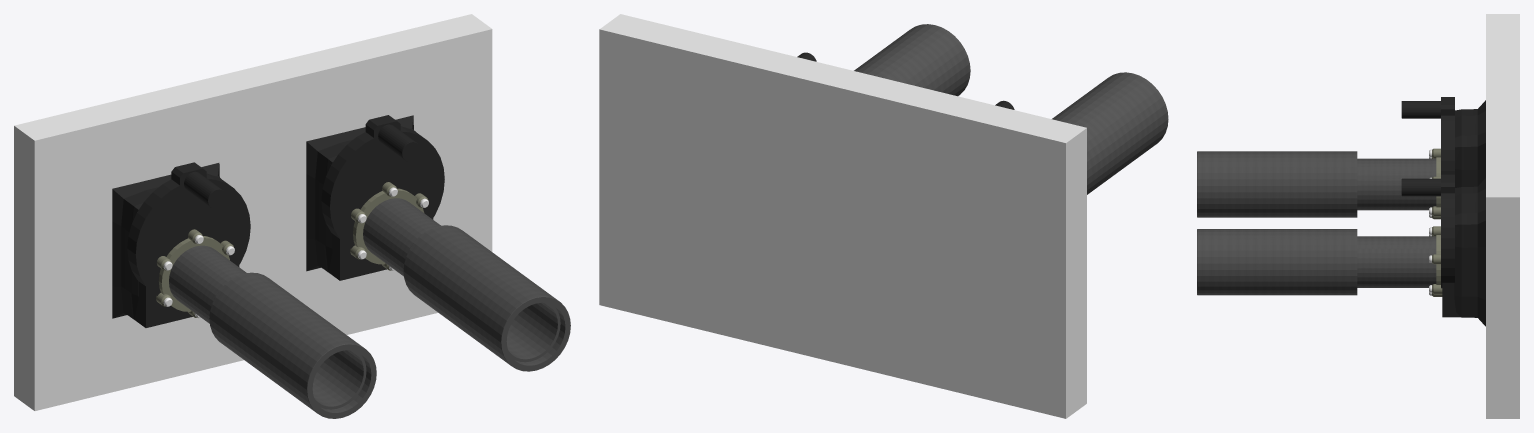
File: MS Imager.fbx
3 views of the same model, side by side, from view 1: azimuth 30°, elevation 25°; view 2: azimuth 150°, elevation 25°; view 3: azimuth 270°, elevation 25° (orthographic). The views are drawn at different scales.
Parts seen in each view (by area): view 1: Cube.005, Cylinder.030, Cylinder.003, Cube.004, Cube.001, Cube.003, Cube.002, Cylinder.002, Cylinder.031, Cylinder.029, Cylinder.004, Cylinder.032 (+1 smaller); view 2: Cube.005, Cylinder.003, Cylinder.030; view 3: Cube.005, Cylinder.003, Cylinder.030, Cube.003, Cylinder.031, Cylinder.002, Cube.002, Cube.004, Cube.001, Cylinder.032, Cylinder.001.
Part boxes in pixels (x1=…): Cube.005: x1=14, y1=14, x2=492, y2=410; Cylinder.030: x1=403, y1=225, x2=570, y2=371; Cylinder.003: x1=209, y1=272, x2=376, y2=418; Cube.004: x1=321, y1=115, x2=444, y2=248; Cube.001: x1=127, y1=162, x2=250, y2=295; Cube.003: x1=306, y1=115, x2=433, y2=280; Cube.002: x1=112, y1=163, x2=239, y2=327; Cylinder.002: x1=169, y1=245, x2=246, y2=323; Cylinder.031: x1=363, y1=198, x2=440, y2=276; Cylinder.029: x1=353, y1=188, x2=424, y2=264; Cylinder.004: x1=158, y1=236, x2=229, y2=311; Cylinder.032: x1=378, y1=124, x2=420, y2=161; Cube.005: x1=599, y1=14, x2=1086, y2=418; Cylinder.003: x1=1052, y1=72, x2=1168, y2=194; Cylinder.030: x1=854, y1=24, x2=970, y2=96; Cube.005: x1=1486, y1=14, x2=1519, y2=418; Cylinder.003: x1=1197, y1=151, x2=1357, y2=217; Cylinder.030: x1=1197, y1=229, x2=1357, y2=295; Cube.003: x1=1442, y1=178, x2=1485, y2=326; Cylinder.031: x1=1357, y1=236, x2=1436, y2=287; Cylinder.002: x1=1357, y1=158, x2=1436, y2=210; Cube.002: x1=1455, y1=100, x2=1485, y2=187; Cube.004: x1=1441, y1=174, x2=1454, y2=288; Cube.001: x1=1441, y1=97, x2=1454, y2=174; Cylinder.032: x1=1401, y1=178, x2=1440, y2=196; Cylinder.001: x1=1401, y1=101, x2=1440, y2=118.
Bounding box in the file's own units: 233 × 132 × 174.
Materials: 4 (4 with a texture image).
